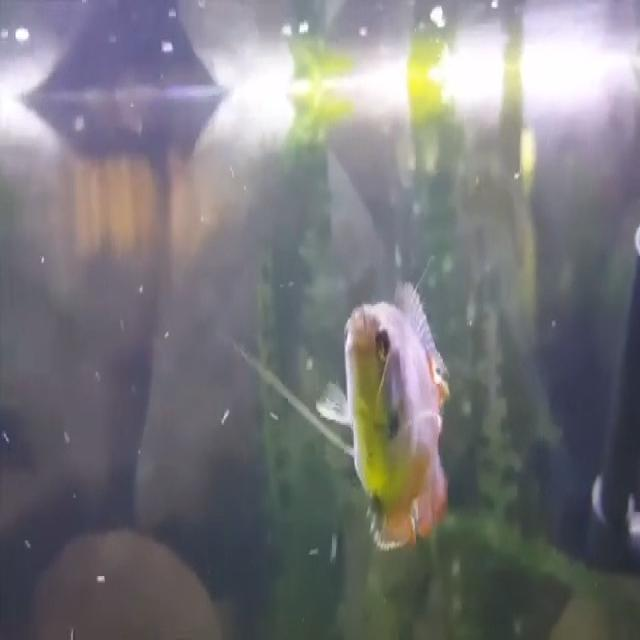fish: (328, 274, 460, 560)
